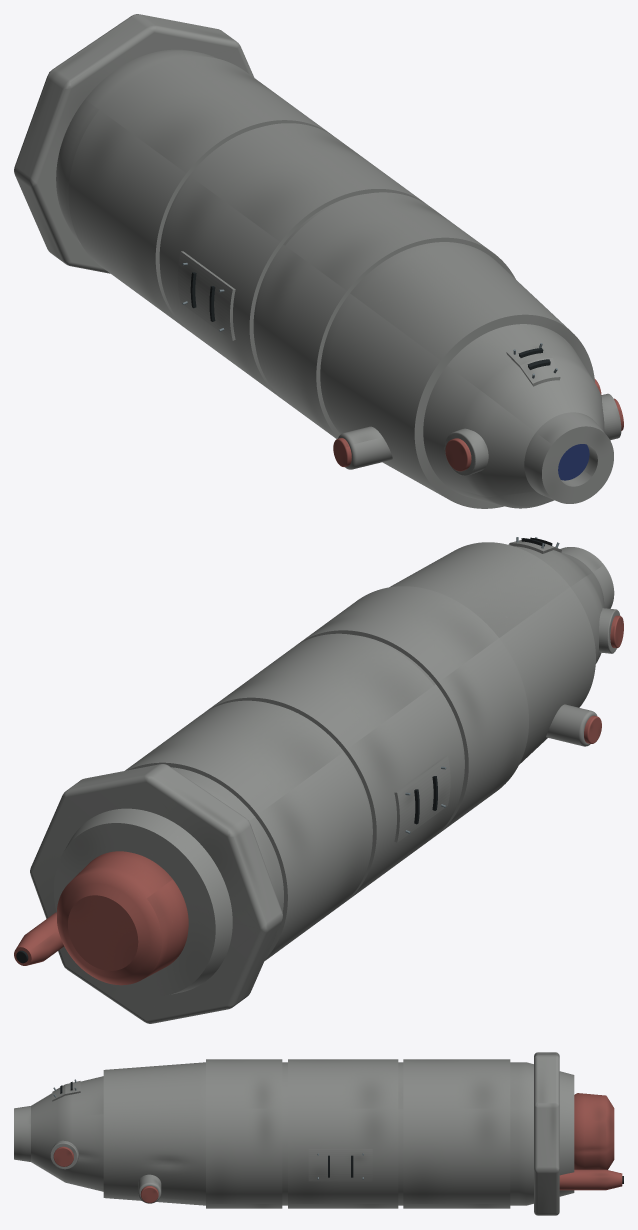
3 renders of one model, top to bottom at view 1: azimuth 30°, elevation 25°; view 2: azimuth 150°, elevation 25°; view 3: azimuth 270°, elevation 25°, orthographic. The views are drawn at different scales.
Visible parts, largest first — view 1: Vortex central casing, Vortex casing sleeve 2, Vortex casing sleeve 1, Vortex casing sleeve 0, Vortex tapered front, Vortex clipped rear collar, Vortex nose rim, Vortex service cover 1, Vortex lower side boss -1, Vortex service cover 2, Vortex nose bezel -1, Vortex blue blind backing (+2 smaller); view 2: Vortex central casing, Vortex casing sleeve 2, Vortex casing sleeve 1, Vortex clipped rear collar, Vortex casing sleeve 0, Vortex red rear end, Vortex service cover 1, Vortex tapered front, Vortex small rear prong, Vortex lower side boss -1, Vortex nose rim; view 3: Vortex central casing, Vortex casing sleeve 2, Vortex casing sleeve 1, Vortex casing sleeve 0, Vortex tapered front, Vortex clipped rear collar, Vortex red rear end, Vortex service cover 0, Vortex small rear prong, Vortex nose rim, Vortex lower side boss 1, Vortex nose bezel 1 (+3 smaller).
Boxes of the visible parts, <box> form: Vortex central casing: <box>56,49,594,508</box>; Vortex casing sleeve 2: <box>68,56,332,330</box>; Vortex casing sleeve 1: <box>160,123,427,400</box>; Vortex casing sleeve 0: <box>254,192,515,438</box>; Vortex tapered front: <box>423,324,604,508</box>; Vortex clipped rear collar: <box>14,14,254,273</box>; Vortex nose rim: <box>524,412,613,503</box>; Vortex service cover 1: <box>177,251,235,340</box>; Vortex lower side boss -1: <box>338,426,392,469</box>; Vortex service cover 2: <box>506,343,560,386</box>; Vortex nose bezel -1: <box>444,428,488,475</box>; Vortex blue blind backing: <box>558,444,589,480</box>; Vortex central casing: <box>54,542,595,996</box>; Vortex casing sleeve 2: <box>125,700,372,961</box>; Vortex casing sleeve 1: <box>205,633,463,903</box>; Vortex clipped rear collar: <box>30,764,282,1023</box>; Vortex casing sleeve 0: <box>296,586,528,836</box>; Vortex red rear end: <box>57,851,188,985</box>; Vortex service cover 1: <box>394,755,450,842</box>; Vortex tapered front: <box>508,544,604,663</box>; Vortex small rear prong: <box>14,912,63,965</box>; Vortex lower side boss -1: <box>546,704,597,746</box>; Vortex nose rim: <box>560,547,614,608</box>; Vortex central casing: <box>103,1062,574,1205</box>; Vortex casing sleeve 2: <box>403,1059,510,1208</box>; Vortex casing sleeve 1: <box>288,1059,398,1208</box>; Vortex casing sleeve 0: <box>206,1059,282,1208</box>; Vortex tapered front: <box>31,1076,103,1191</box>; Vortex clipped rear collar: <box>534,1052,559,1215</box>; Vortex red rear end: <box>574,1093,614,1169</box>; Vortex service cover 0: <box>308,1149,372,1181</box>; Vortex small rear prong: <box>559,1169,622,1190</box>; Vortex nose rim: <box>14,1106,30,1161</box>; Vortex lower side boss 1: <box>138,1174,161,1203</box>; Vortex nose bezel 1: <box>50,1140,78,1169</box>.
Size of the model in its own units: 0.705 by 0.6724 by 2.38.
Materials: 5 (2 with a texture image).
